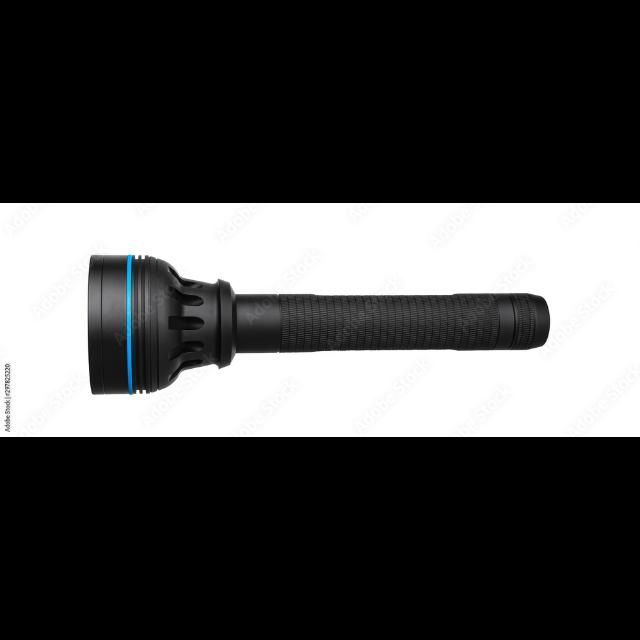Flashlight: (82, 248, 554, 400)
